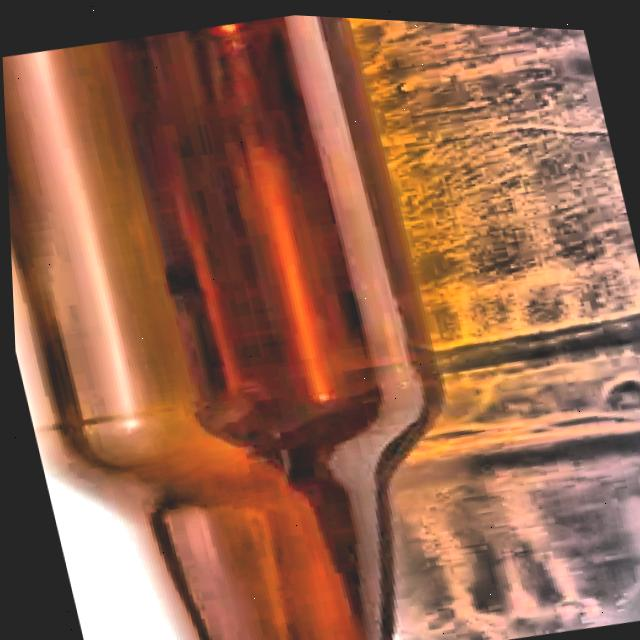glass: (0, 0, 507, 640)
